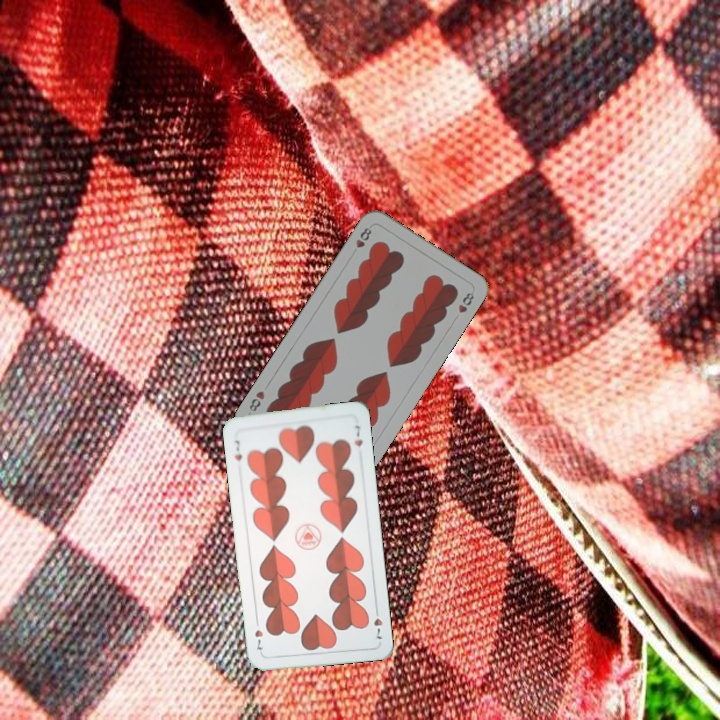H7: (370, 603, 385, 642), (231, 436, 245, 463)
H8: (348, 223, 374, 258)
